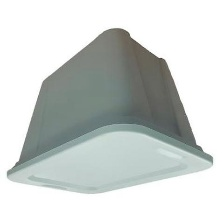plastic_box: (0, 21, 219, 202)
